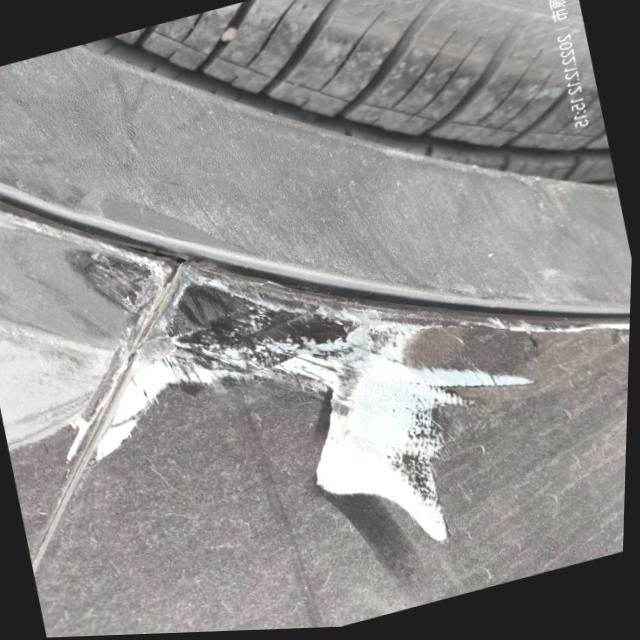Paint-fading: (132, 262, 535, 540)
